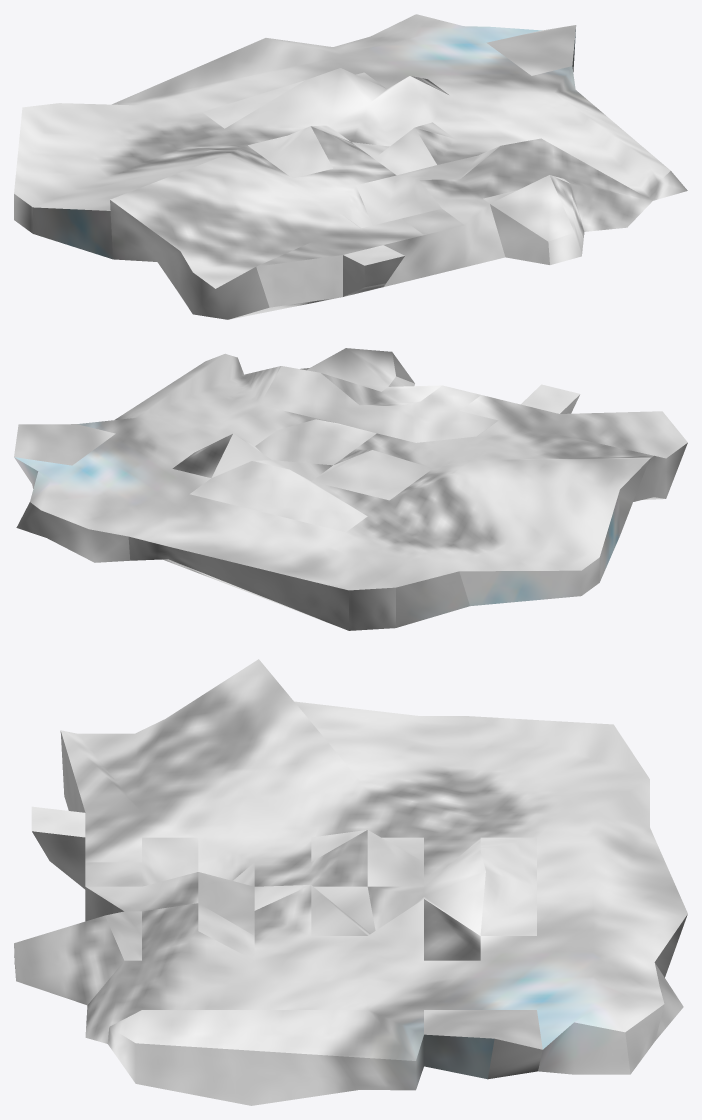
Rendered from SmallIce_J.fbx.
The picture shows the model from 3 angles, top to bottom: view 1: azimuth 30°, elevation 25°; view 2: azimuth 150°, elevation 25°; view 3: azimuth 270°, elevation 25°; orthographic projection. The views are drawn at different scales.
Parts seen in each view (by area): view 1: pCube1; view 2: pCube1; view 3: pCube1.
Boxes of the visible parts, x1,y1,x2,y2 form: pCube1: [14, 14, 687, 319]; pCube1: [14, 348, 687, 630]; pCube1: [14, 659, 687, 1105].
Bounding box in the file's own units: 1.78 × 0.3646 × 1.46.
Materials: 1 (1 with a texture image).
